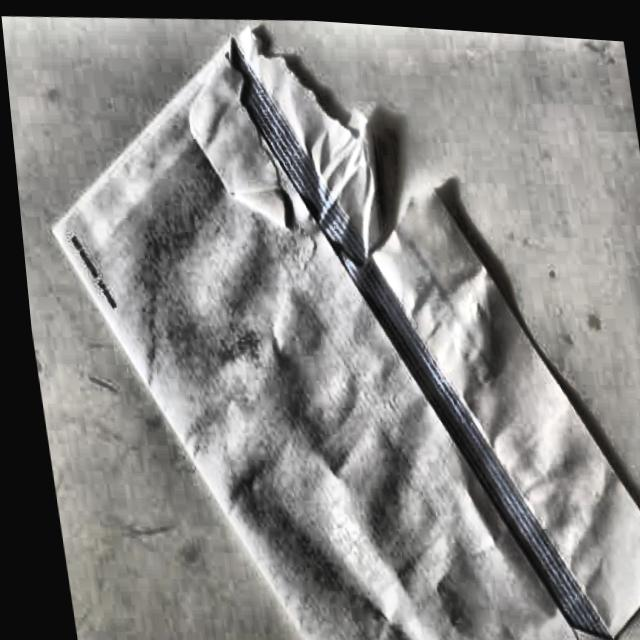Paper: (15, 1, 640, 640)
